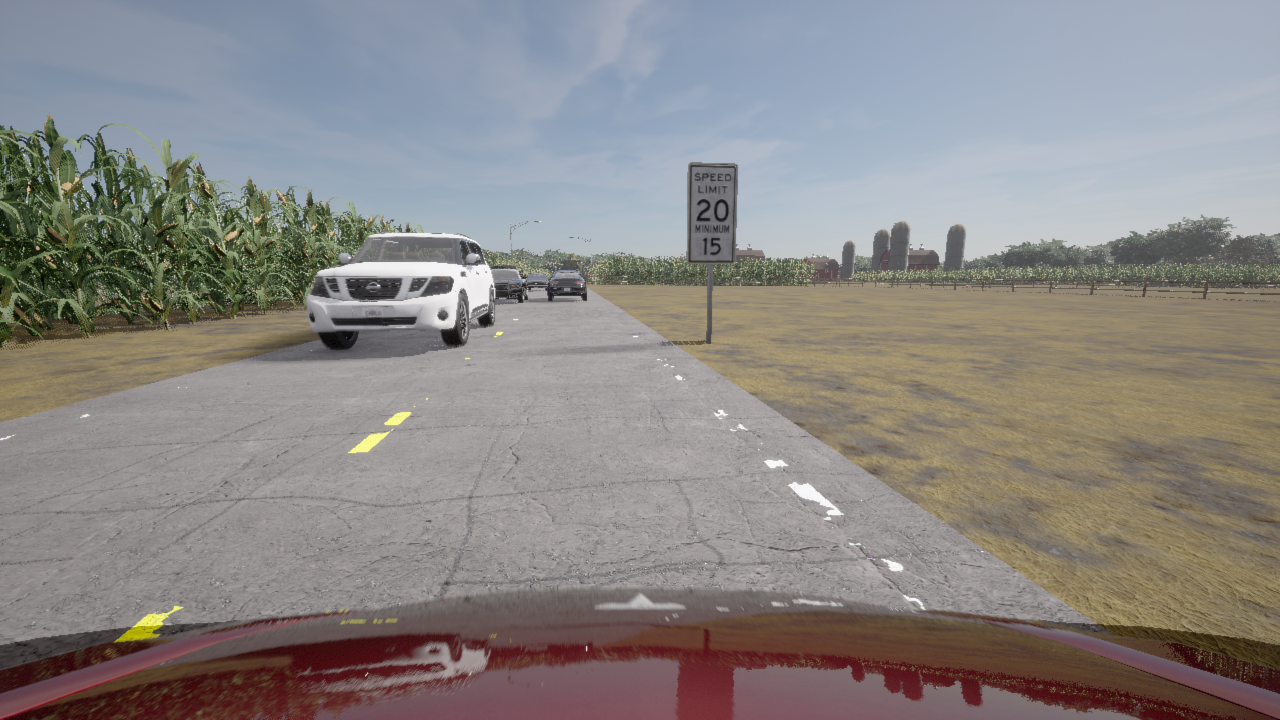cyclist: (0, 588, 1279, 719), (307, 232, 495, 348), (491, 265, 527, 302), (547, 270, 586, 300), (527, 273, 548, 290)
